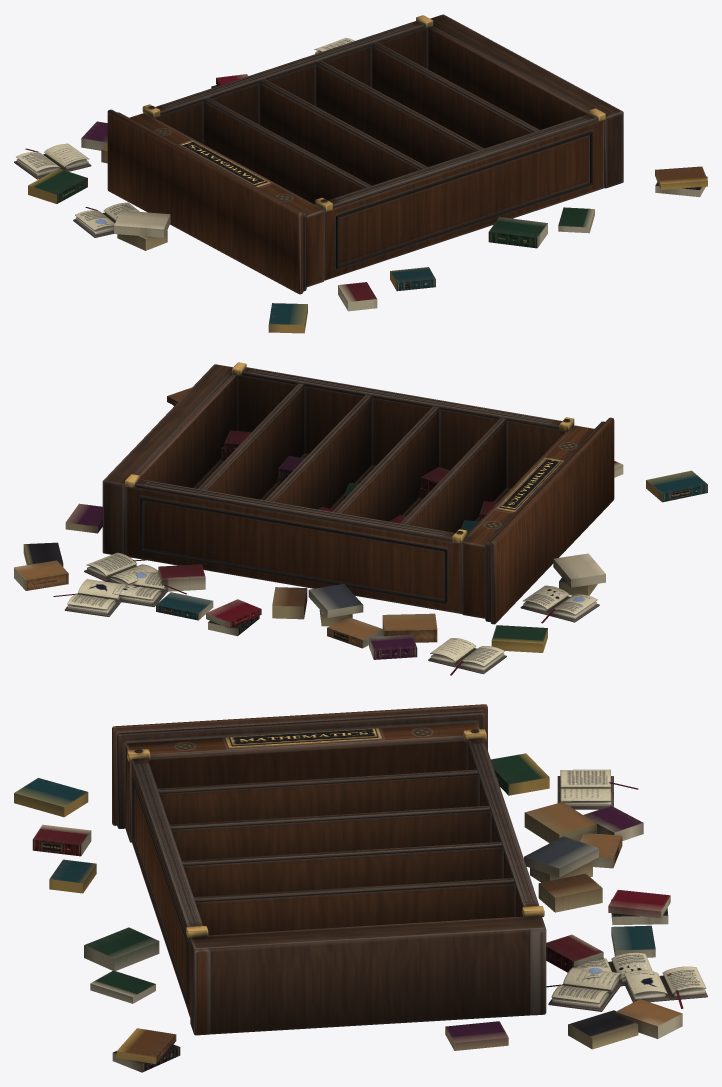
File: ShelfToppled.fbx
The picture shows the model from 3 angles, top to bottom: view 1: azimuth 30°, elevation 25°; view 2: azimuth 150°, elevation 25°; view 3: azimuth 270°, elevation 25°; orthographic projection. The views are drawn at different scales.
Parts seen in each view (by area): view 1: ShelfToppled; view 2: ShelfToppled; view 3: ShelfToppled.
Boxes of the visible parts, left/top/right/bottom form: ShelfToppled: left=14, top=14, right=707, bottom=333; ShelfToppled: left=14, top=362, right=707, bottom=675; ShelfToppled: left=14, top=704, right=707, bottom=1072.
Size of the model in its own units: 1243 by 185 by 1182.
